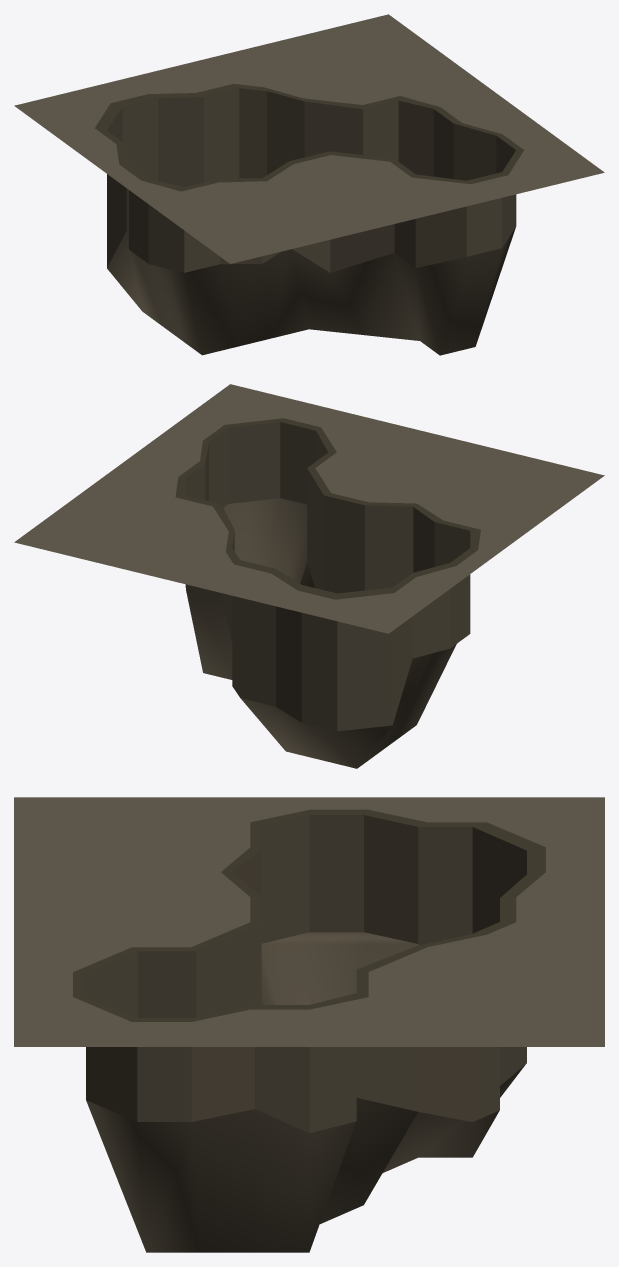
Rendered from SF_Env_Crevice_01.fbx.
The picture shows the model from 3 angles, top to bottom: view 1: azimuth 30°, elevation 25°; view 2: azimuth 150°, elevation 25°; view 3: azimuth 270°, elevation 25°; orthographic projection. The views are drawn at different scales.
Visible parts, largest first — view 1: SF_Env_Crevice_01; view 2: SF_Env_Crevice_01; view 3: SF_Env_Crevice_01.
Boxes of the visible parts, x1,y1,x2,y2 form: SF_Env_Crevice_01: (14, 14, 604, 355); SF_Env_Crevice_01: (14, 384, 604, 768); SF_Env_Crevice_01: (14, 797, 604, 1252).
Bounding box in the file's own units: 33.1 × 16.04 × 33.1.
